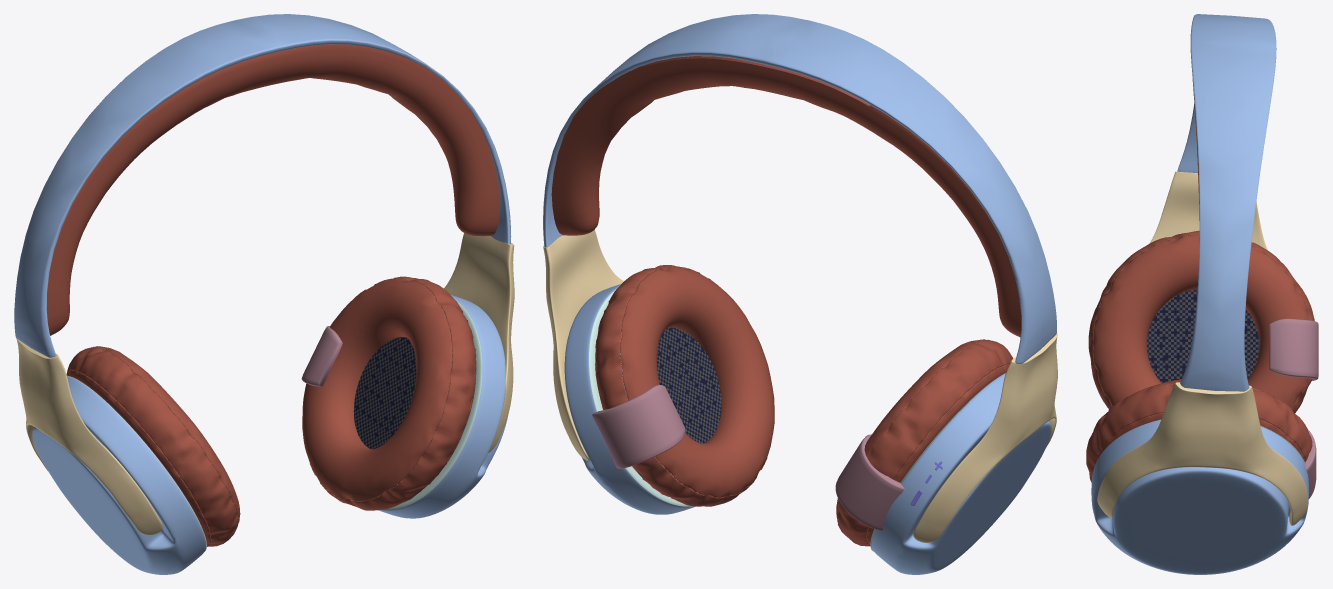
The model's file is Headphone-transformed.glb.
3 renders of one model, left to right at view 1: azimuth 30°, elevation 25°; view 2: azimuth 150°, elevation 25°; view 3: azimuth 270°, elevation 25°, orthographic. The views are drawn at different scales.
Visible parts, largest first — view 1: ear_cushion_Baked, headband_cushion_Baked, headband_top_Baked, earcup_Baked, slider_Baked, insidespeacker_Baked, outerspeacker_Baked, middle_Baked, holder_Baked; view 2: ear_cushion_Baked, headband_top_Baked, headband_cushion_Baked, earcup_Baked, slider_Baked, holder_Baked, insidespeacker_Baked, outerspeacker_Baked, middle_Baked; view 3: headband_top_Baked, ear_cushion_Baked, earcup_Baked, slider_Baked, holder_Baked, insidespeacker_Baked, outerspeacker_Baked.
Part boxes in pixels (box(x1,y1,x2,y2)): ear_cushion_Baked: box(66, 276, 476, 546); headband_cushion_Baked: box(46, 44, 500, 335); headband_top_Baked: box(14, 14, 511, 357); earcup_Baked: box(32, 295, 507, 574); slider_Baked: box(16, 233, 514, 535); insidespeacker_Baked: box(135, 337, 416, 473); outerspeacker_Baked: box(193, 337, 416, 497); middle_Baked: box(67, 300, 482, 550); holder_Baked: box(301, 326, 342, 386); ear_cushion_Baked: box(595, 265, 1013, 546); headband_top_Baked: box(543, 14, 1056, 363); headband_cushion_Baked: box(551, 56, 1021, 337); earcup_Baked: box(564, 284, 1051, 574); slider_Baked: box(543, 229, 1057, 542); holder_Baked: box(592, 385, 904, 530); insidespeacker_Baked: box(657, 327, 921, 470); outerspeacker_Baked: box(657, 327, 721, 443); middle_Baked: box(589, 290, 999, 551); headband_top_Baked: box(1177, 14, 1276, 391); ear_cushion_Baked: box(1086, 230, 1314, 482); earcup_Baked: box(1091, 419, 1308, 574); slider_Baked: box(1097, 171, 1308, 525); holder_Baked: box(1269, 318, 1318, 498); insidespeacker_Baked: box(1147, 289, 1259, 382); outerspeacker_Baked: box(1147, 289, 1259, 382).
Bounding box in the file's own units: 4.74 × 4.75 × 2.11.
1 material, 1 textured.
